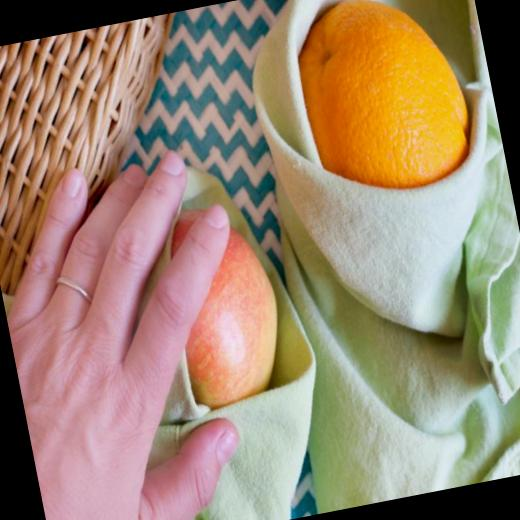Grape: (287, 0, 473, 209)
